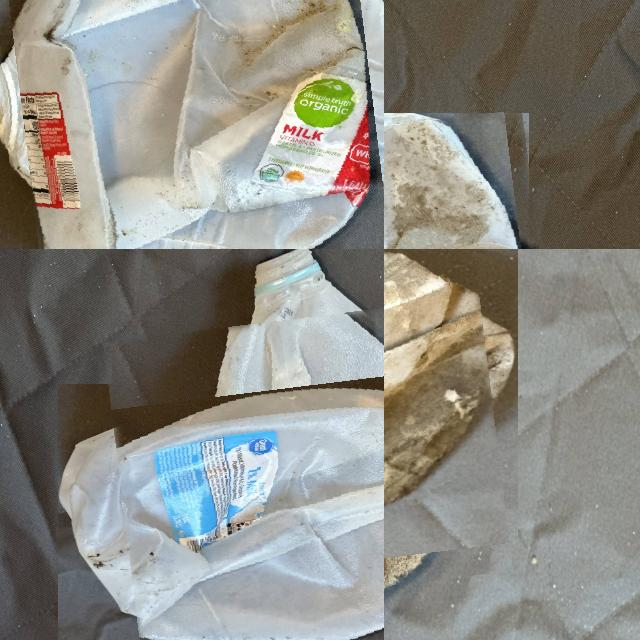milk-jug: (0, 0, 384, 249), (114, 304, 384, 640), (384, 249, 501, 610), (384, 120, 558, 249)
